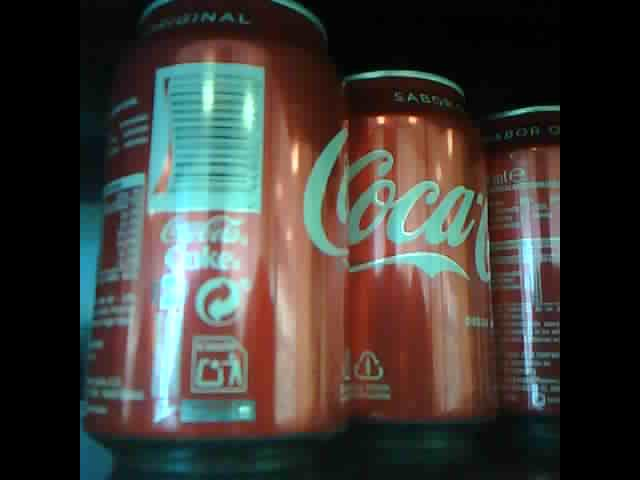coca cola: (81, 1, 349, 451), (346, 65, 499, 436), (488, 98, 559, 430)
